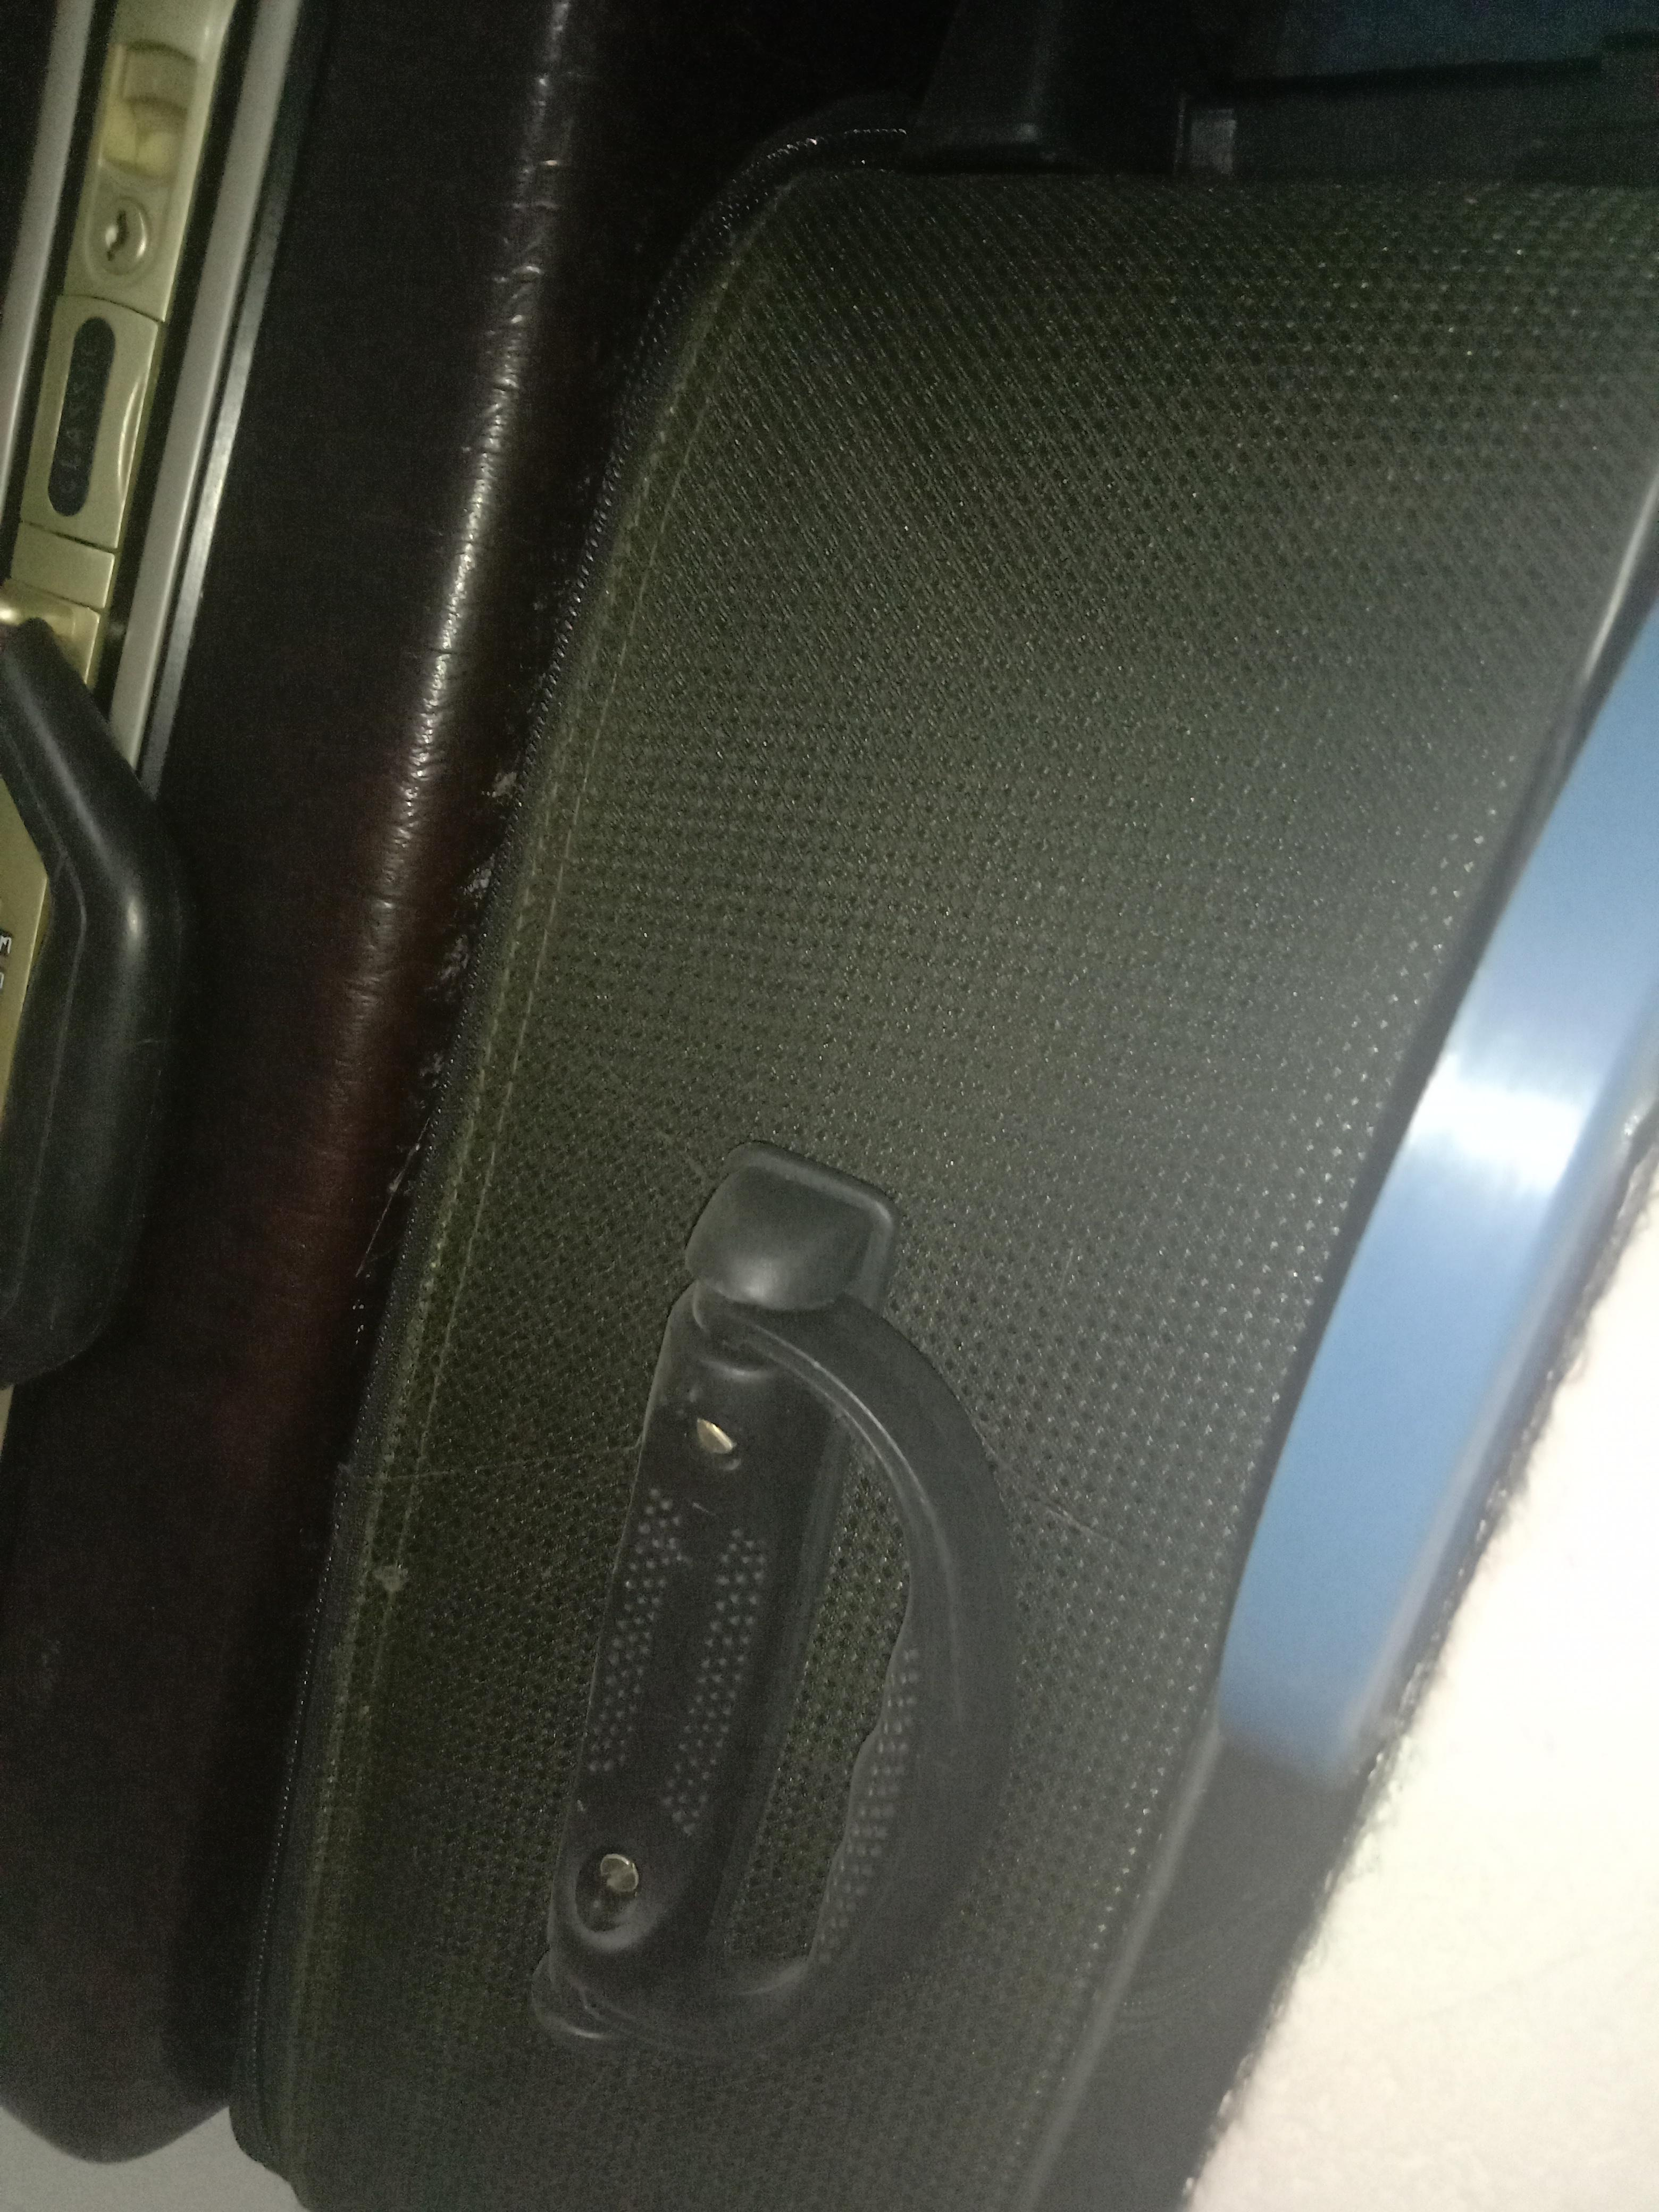suitcase: (199, 85, 1659, 2212), (0, 2, 1190, 2172)
